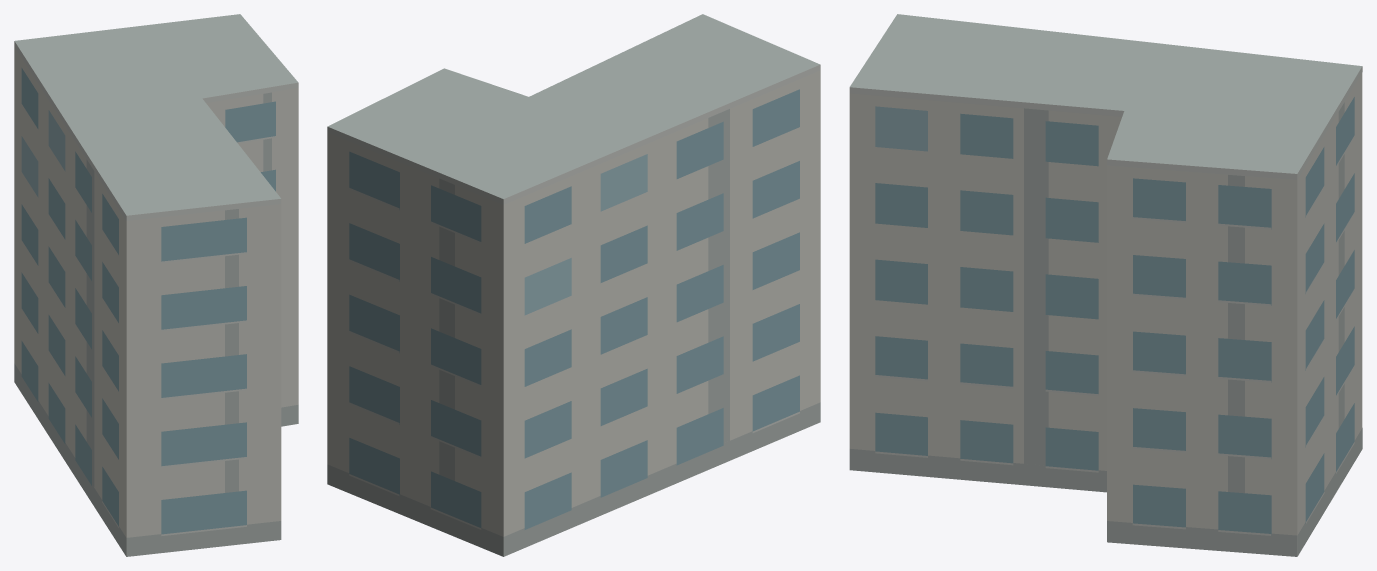
File: residential-c23764da-be0e-468c-a288-68fc99bbd29f.glb
3 views of the same model, side by side, from view 1: azimuth 30°, elevation 25°; view 2: azimuth 150°, elevation 25°; view 3: azimuth 270°, elevation 25° (orthographic). The views are drawn at different scales.
Visible parts, largest first — view 1: residential-c23764da-be0e-468c-a288-68fc99bbd29f.tmp; view 2: residential-c23764da-be0e-468c-a288-68fc99bbd29f.tmp; view 3: residential-c23764da-be0e-468c-a288-68fc99bbd29f.tmp.
Boxes of the visible parts, x1,y1,x2,y2 form: residential-c23764da-be0e-468c-a288-68fc99bbd29f.tmp: (14,14,298,556); residential-c23764da-be0e-468c-a288-68fc99bbd29f.tmp: (327,14,820,556); residential-c23764da-be0e-468c-a288-68fc99bbd29f.tmp: (849,14,1362,556).
Size of the model in its own units: 13.67 by 15.25 by 18.52.
